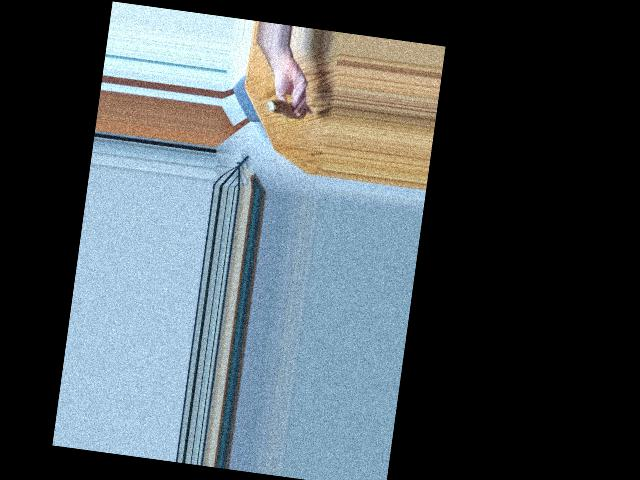sweet_potato: (271, 98, 305, 120)
